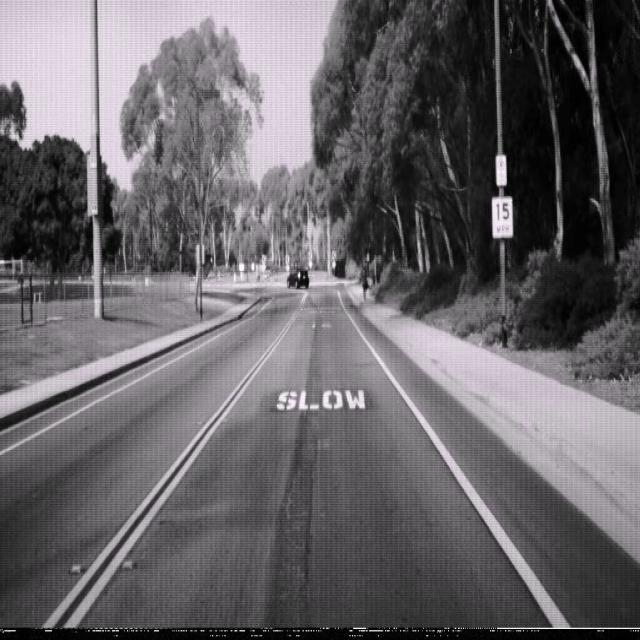speedLimit15: (491, 195, 513, 238)
